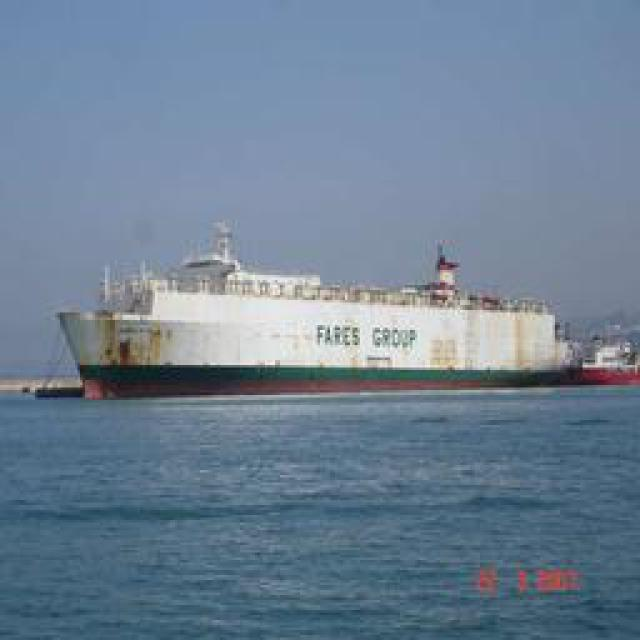Ship: (57, 221, 595, 404)
